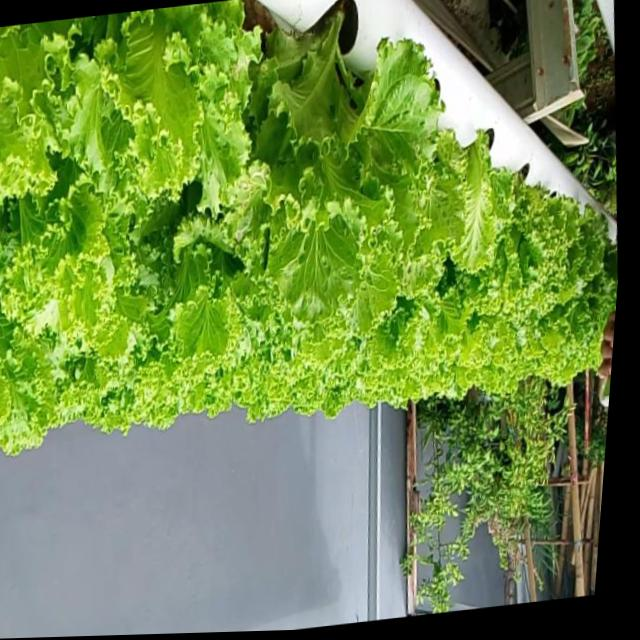Mature: (0, 0, 617, 446), (234, 0, 456, 322), (472, 159, 579, 319)
